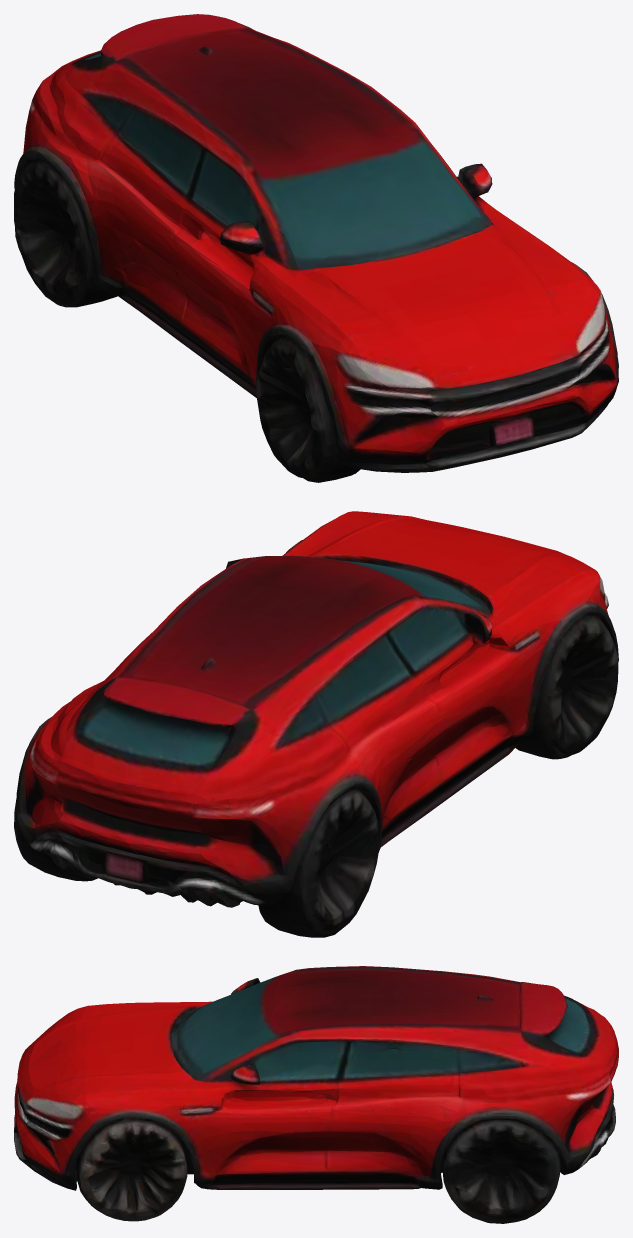
File: suv.glb
The picture shows the model from 3 angles, top to bottom: view 1: azimuth 30°, elevation 25°; view 2: azimuth 150°, elevation 25°; view 3: azimuth 270°, elevation 25°; orthographic projection. The views are drawn at different scales.
Parts seen in each view (by area): view 1: world; view 2: world; view 3: world.
Boxes of the visible parts, left/top/right/bottom form: world: left=14, top=14, right=618, bottom=482; world: left=14, top=511, right=618, bottom=937; world: left=14, top=966, right=618, bottom=1223.
Bounding box in the file's own units: 0.4422 × 0.3282 × 1.
Materials: 1 (1 with a texture image).
